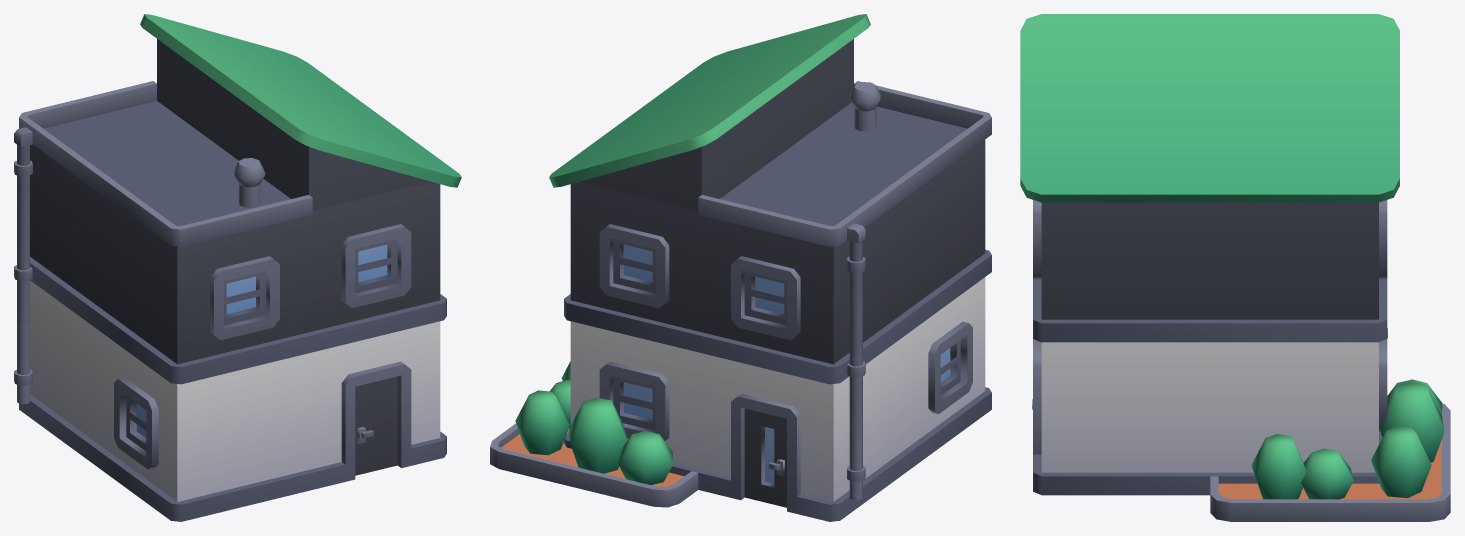
Rendered from house_11.fbx.
3 renders of one model, left to right at view 1: azimuth 30°, elevation 25°; view 2: azimuth 150°, elevation 25°; view 3: azimuth 270°, elevation 25°, orthographic. The views are drawn at different scales.
Visible parts, largest first — view 1: house_11; view 2: house_11; view 3: house_11.
Boxes of the visible parts, x1,y1,x2,y2 form: house_11: [14, 14, 461, 521]; house_11: [490, 14, 991, 521]; house_11: [1020, 14, 1450, 521].
Bounding box in the file's own units: 1.03 × 1.05 × 1.02.
1 material, 1 textured.
